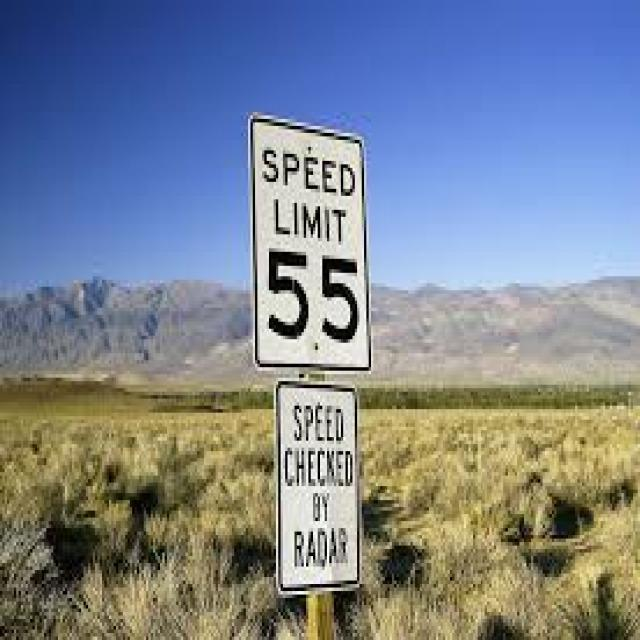Speed Limit Signs: (244, 108, 377, 376)
